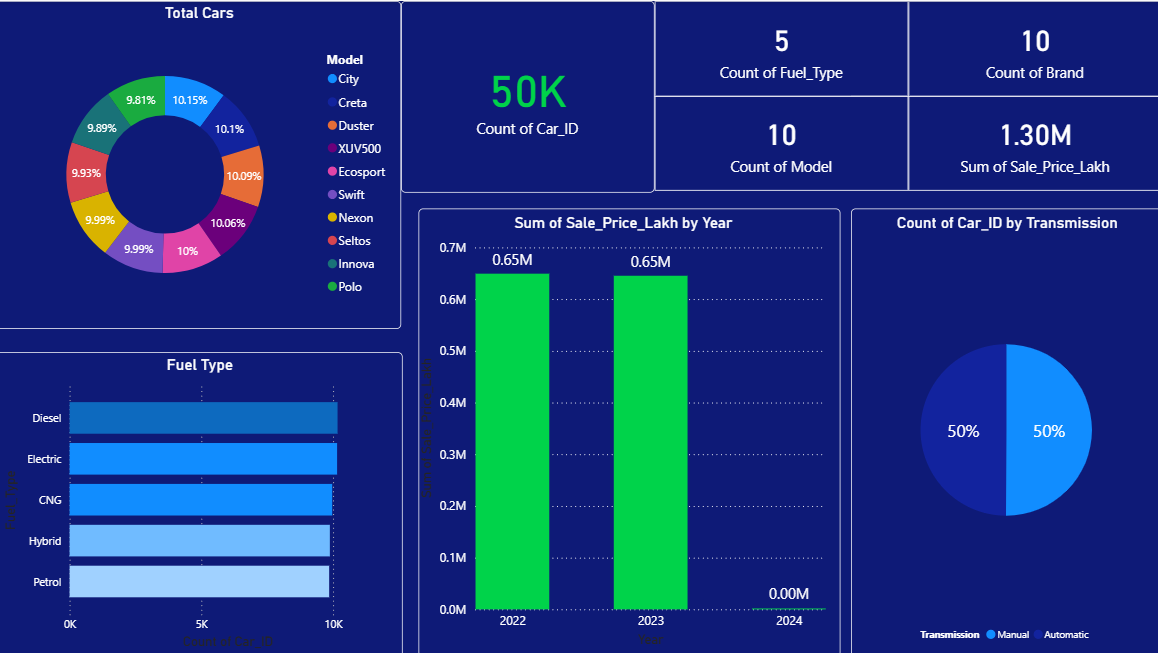

The page's visual inventory and layout, read from the dashboard file:
{"tool":"powerbi","page":{"name":"Page 1","canvas":[1280,720],"ordinal":0},"visuals":[{"type":"card","title":"Total cars","fields":{"Values":["Count(MASTER_CAR_DATA.Car_ID)"]},"box":[445,0,278.3,210],"z":0},{"type":"card","fields":{"Values":["Count(MASTER_CAR_DATA.Brand)"]},"box":[1001.7,0,278.3,105],"z":1000},{"type":"card","fields":{"Values":["Sum(MASTER_CAR_DATA.Sale_Price_Lakh)"]},"box":[1001.4,104.3,278.6,104.3],"z":2000},{"type":"card","fields":{"Values":["Count(MASTER_CAR_DATA.Fuel_Type)"]},"box":[723.3,0,278.3,105],"z":3000},{"type":"card","fields":{"Values":["Count(MASTER_CAR_DATA.Model)"]},"box":[722.9,104.3,278.6,104.3],"z":4000},{"type":"barChart","title":"Fuel Type","fields":{"Y":["Count(MASTER_CAR_DATA.Car_ID)"],"Category":["MASTER_CAR_DATA.Fuel_Type"]},"box":[0,386,446,334],"z":5000},{"type":"columnChart","fields":{"Y":["Sum(MASTER_CAR_DATA.Sale_Price_Lakh)"],"Category":["MASTER_CAR_DATA.Sale_Date.Variation.Date Hierarchy.Year"]},"box":[463.3,228.3,463.3,491.7],"z":6000},{"type":"donutChart","title":"Total Cars","fields":{"Category":["MASTER_CAR_DATA.Model"],"Y":["CountNonNull(MASTER_CAR_DATA.Car_ID)"]},"box":[0,0,445,360],"z":7000},{"type":"pieChart","fields":{"Category":["MASTER_CAR_DATA.Transmission"],"Y":["CountNonNull(MASTER_CAR_DATA.Car_ID)"]},"box":[938.3,228.3,341.7,491.7],"z":8000}]}

Visuals, with their boxes in screenshot pixels (x1, y1, x2, y2), scaled from the page's 1280x720 canvas onto the 1158x653 screenshot:
"Total cars" card: <region>403, 0, 654, 190</region>
card - Count(MASTER_CAR_DATA.Brand): <region>906, 0, 1157, 95</region>
card - Sum(MASTER_CAR_DATA.Sale_Price_Lakh): <region>906, 95, 1157, 189</region>
card - Count(MASTER_CAR_DATA.Fuel_Type): <region>654, 0, 906, 95</region>
card - Count(MASTER_CAR_DATA.Model): <region>654, 95, 906, 189</region>
"Fuel Type" barChart: <region>0, 350, 403, 652</region>
columnChart - Sum(MASTER_CAR_DATA.Sale_Price_Lakh) x MASTER_CAR_DATA.Sale_Date.Variation.Date Hierarchy.Year: <region>419, 207, 838, 652</region>
"Total Cars" donutChart: <region>0, 0, 403, 326</region>
pieChart - MASTER_CAR_DATA.Transmission x CountNonNull(MASTER_CAR_DATA.Car_ID): <region>849, 207, 1157, 652</region>
